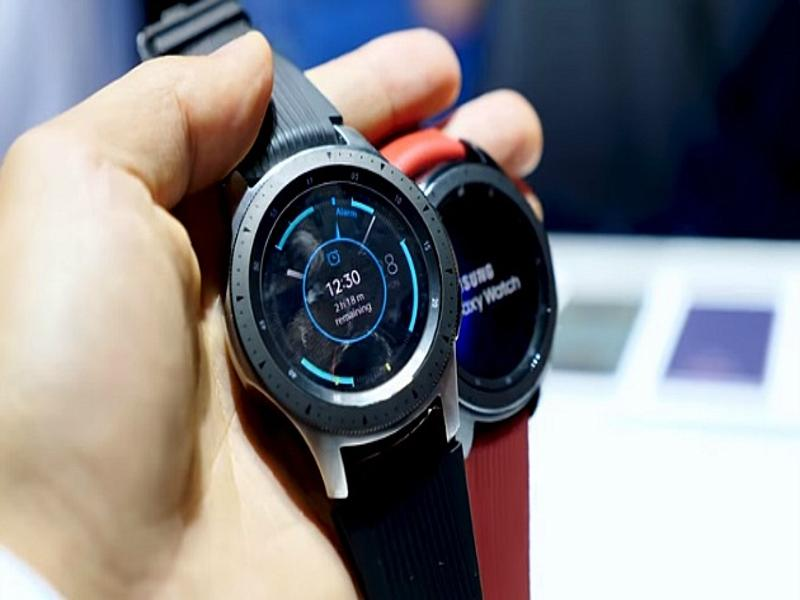watch: (136, 1, 482, 598), (379, 124, 555, 600)
